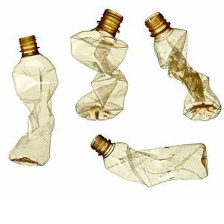bottle: (61, 5, 138, 126), (143, 6, 223, 122), (2, 31, 66, 174), (86, 128, 220, 194)
